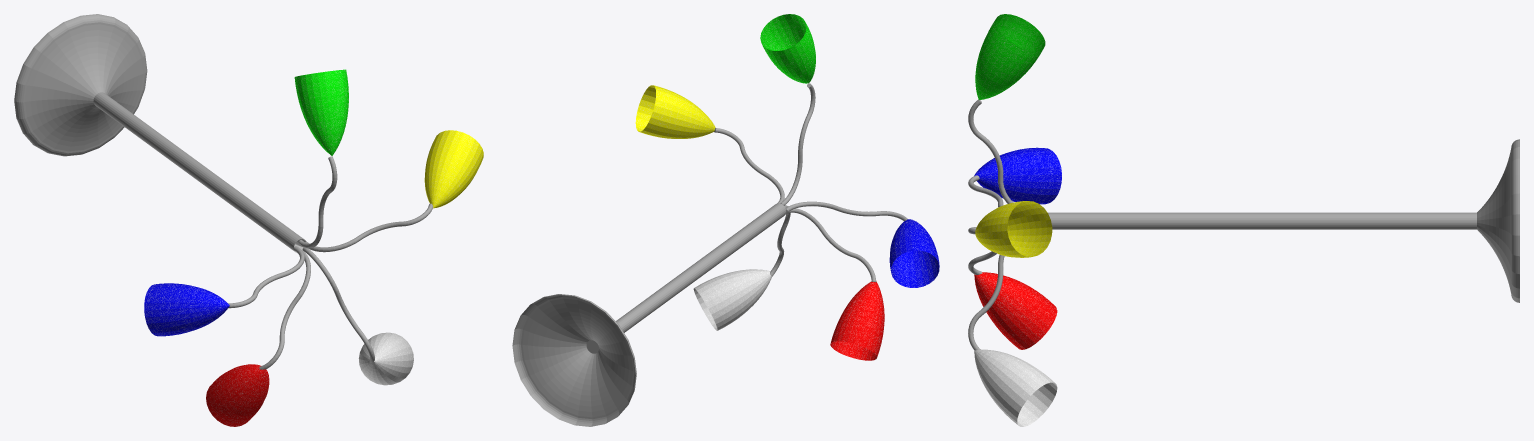
The picture shows the model from 3 angles, left to right: view 1: azimuth 30°, elevation 25°; view 2: azimuth 150°, elevation 25°; view 3: azimuth 270°, elevation 25°; orthographic projection. The views are drawn at different scales.
Visible parts, largest first — view 1: head floor lamp; view 2: head floor lamp; view 3: head floor lamp.
Boxes of the visible parts, <box> form: head floor lamp: <box>14,14,483,426</box>; head floor lamp: <box>512,14,939,426</box>; head floor lamp: <box>968,14,1519,426</box>.
Size of the model in its own units: 2091 by 2076 by 2814.
